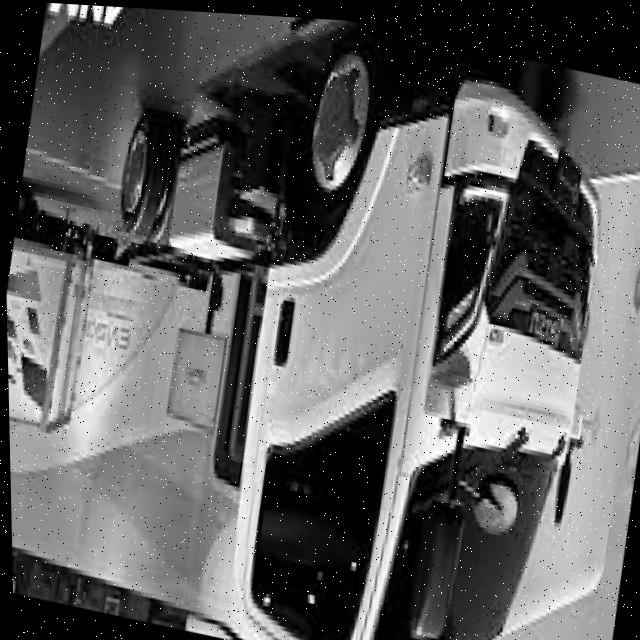truck: (188, 10, 640, 640)
